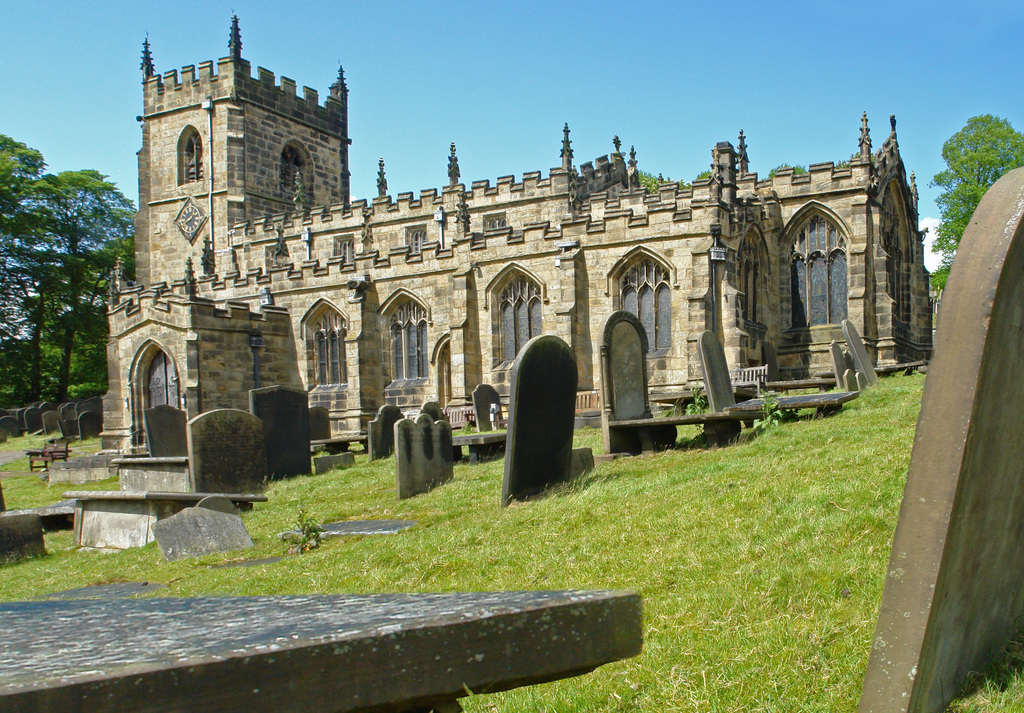Tree: (11, 111, 117, 413), (940, 108, 1022, 213), (928, 162, 963, 297), (640, 167, 688, 190), (834, 149, 875, 170), (764, 160, 809, 178), (695, 167, 709, 176)
